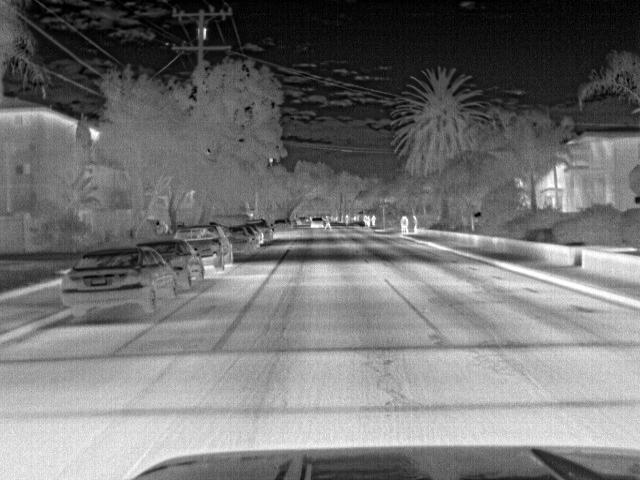car: (62, 248, 179, 324), (134, 239, 204, 286), (172, 222, 234, 272), (225, 226, 251, 255), (252, 218, 274, 243), (243, 223, 259, 251), (250, 222, 264, 243), (271, 218, 289, 234), (296, 215, 314, 226), (310, 216, 326, 228)
person: (322, 212, 335, 229), (412, 213, 419, 233), (405, 213, 412, 233), (399, 213, 406, 232), (372, 213, 378, 230)
